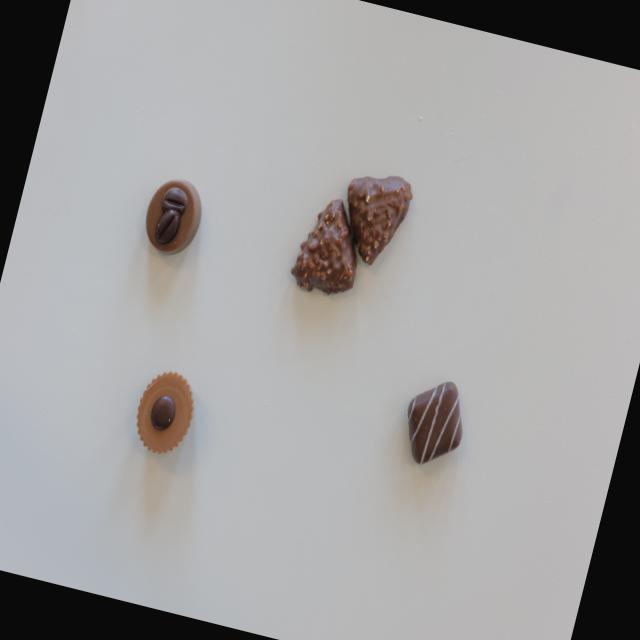Arabia: (136, 173, 208, 261)
Noblesse: (128, 366, 199, 458)
Stracciatella: (394, 373, 474, 471)
Triangolo: (288, 192, 372, 301), (331, 166, 416, 272)
